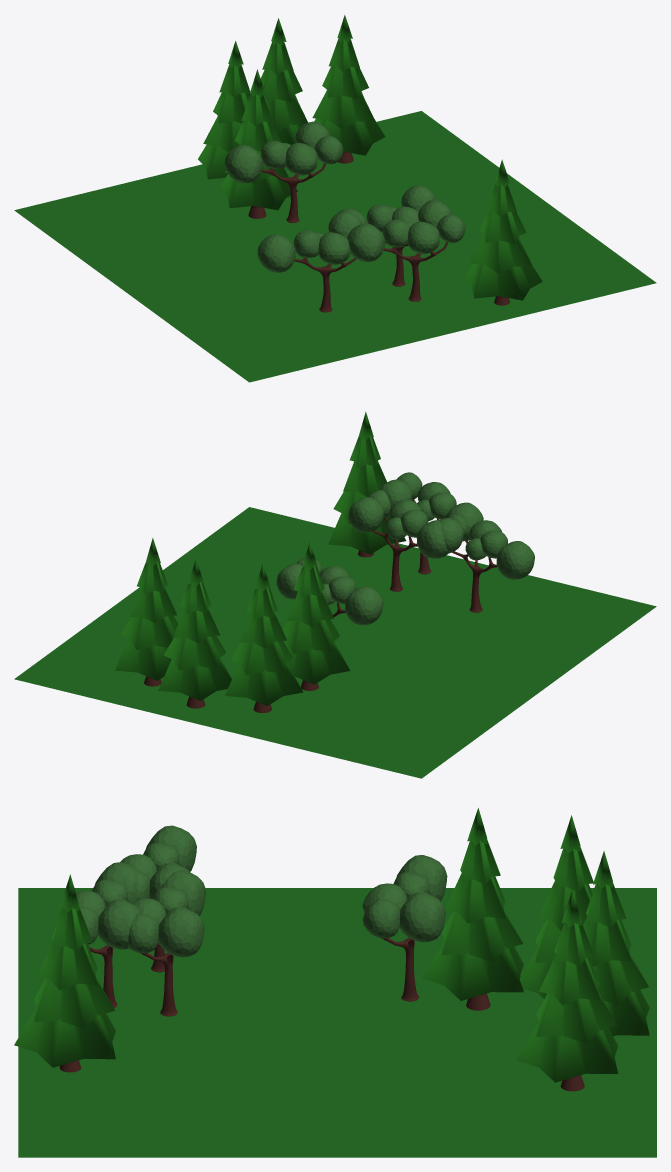
File: forest.glb
3 views of the same model, one above another, from view 1: azimuth 30°, elevation 25°; view 2: azimuth 150°, elevation 25°; view 3: azimuth 270°, elevation 25° (orthographic). The views are drawn at different scales.
Parts seen in each view (by area): view 1: Plane; view 2: Plane; view 3: Plane.
Part boxes in pixels (x1,y1,x2,y2): Plane: (14, 15, 656, 382); Plane: (14, 411, 656, 778); Plane: (14, 808, 656, 1157).
Size of the model in its own units: 18.97 by 6.75 by 19.1.
